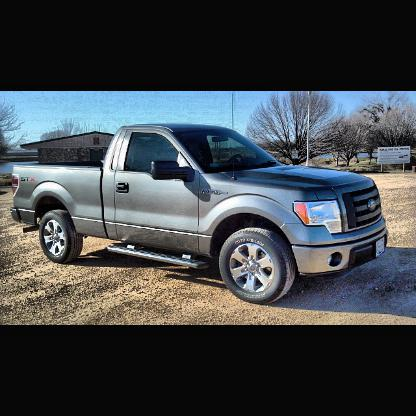Ford F-150 Regular Cab 2012: (11, 124, 391, 307)
